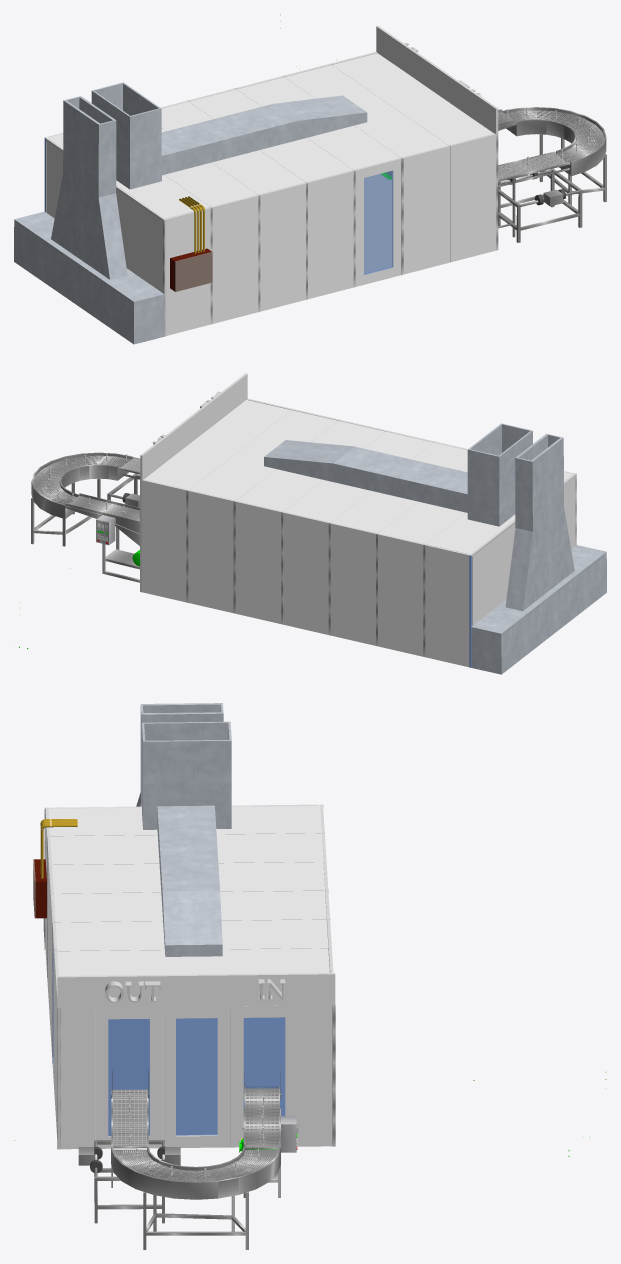
The model's file is spray-booth-color.glb.
The picture shows the model from 3 angles, top to bottom: view 1: azimuth 30°, elevation 25°; view 2: azimuth 150°, elevation 25°; view 3: azimuth 270°, elevation 25°; orthographic projection. The views are drawn at different scales.
Parts seen in each view (by area): view 1: G-No_Name_083, G-No_Name_084, G-No_Name_174, G-No_Name_124, G-No_Name_132, G-No_Name_131, G-No_Name_127, G-No_Name_125, G-No_Name_128, G-No_Name_161, G-No_Name_154, G-No_Name_130 (+16 smaller); view 2: G-No_Name_083, G-No_Name_084, G-No_Name_174, G-No_Name_165, G-No_Name_138, G-No_Name_163, G-No_Name_137, G-No_Name_159, G-No_Name_156, G-No_Name_152, G-No_Name_161, G-No_Name_154 (+14 smaller); view 3: G-No_Name_174, G-No_Name_166, G-No_Name_084, G-No_Name_126, G-No_Name_081, G-No_Name_162, G-No_Name_135, G-No_Name_154, G-No_Name_168, G-No_Name_157, G-No_Name_167, G-No_Name_139 (+10 smaller).
Part boxes in pixels (left/top/right/bottom): G-No_Name_083: left=14, top=96, right=164, bottom=344; G-No_Name_084: left=161, top=95, right=367, bottom=175; G-No_Name_174: left=46, top=82, right=209, bottom=221; G-No_Name_124: left=354, top=157, right=401, bottom=286; G-No_Name_132: left=401, top=145, right=449, bottom=274; G-No_Name_131: left=211, top=194, right=258, bottom=323; G-No_Name_127: left=449, top=133, right=496, bottom=262; G-No_Name_125: left=306, top=170, right=354, bottom=299; G-No_Name_128: left=258, top=182, right=306, bottom=311; G-No_Name_161: left=332, top=53, right=493, bottom=145; G-No_Name_154: left=285, top=65, right=447, bottom=157; G-No_Name_130: left=163, top=207, right=211, bottom=335; G-No_Name_083: left=471, top=433, right=606, bottom=674; G-No_Name_084: left=264, top=440, right=467, bottom=512; G-No_Name_174: left=426, top=423, right=572, bottom=556; G-No_Name_165: left=424, top=544, right=472, bottom=667; G-No_Name_138: left=235, top=500, right=282, bottom=623; G-No_Name_163: left=377, top=533, right=424, bottom=656; G-No_Name_137: left=282, top=511, right=329, bottom=634; G-No_Name_159: left=330, top=522, right=377, bottom=645; G-No_Name_156: left=188, top=490, right=235, bottom=613; G-No_Name_152: left=142, top=479, right=187, bottom=602; G-No_Name_161: left=144, top=400, right=291, bottom=489; G-No_Name_154: left=189, top=410, right=338, bottom=500; G-No_Name_174: left=48, top=721, right=321, bottom=836; G-No_Name_166: left=163, top=1006, right=230, bottom=1147; G-No_Name_084: left=157, top=805, right=222, bottom=956; G-No_Name_126: left=57, top=973, right=335, bottom=1008; G-No_Name_081: left=95, top=1010, right=284, bottom=1139; G-No_Name_162: left=95, top=1007, right=162, bottom=1148; G-No_Name_135: left=230, top=1005, right=298, bottom=1147; G-No_Name_154: left=57, top=948, right=329, bottom=975; G-No_Name_168: left=55, top=919, right=328, bottom=951; G-No_Name_157: left=54, top=890, right=326, bottom=922; G-No_Name_167: left=50, top=833, right=323, bottom=864; G-No_Name_139: left=52, top=862, right=324, bottom=893.
Bounding box in the file's own units: 11.87 × 4.31 × 9.47.
Materials: 21 (6 with a texture image).
